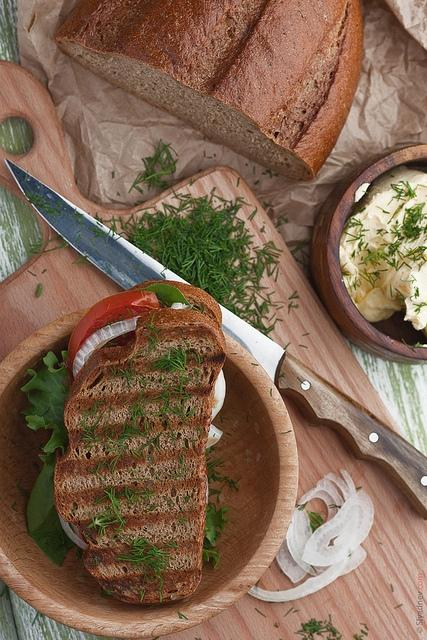lettuce: (20, 350, 69, 484), (24, 468, 74, 568), (134, 284, 200, 312), (205, 504, 231, 548), (202, 548, 220, 568)
onion: (300, 489, 374, 566), (246, 552, 352, 602), (288, 508, 366, 574), (73, 315, 142, 380), (298, 478, 344, 514), (275, 537, 305, 583), (57, 512, 88, 550), (307, 490, 336, 522), (211, 369, 226, 422), (325, 472, 351, 502), (340, 469, 356, 499), (206, 424, 224, 449)
tomato: (68, 290, 162, 386)
